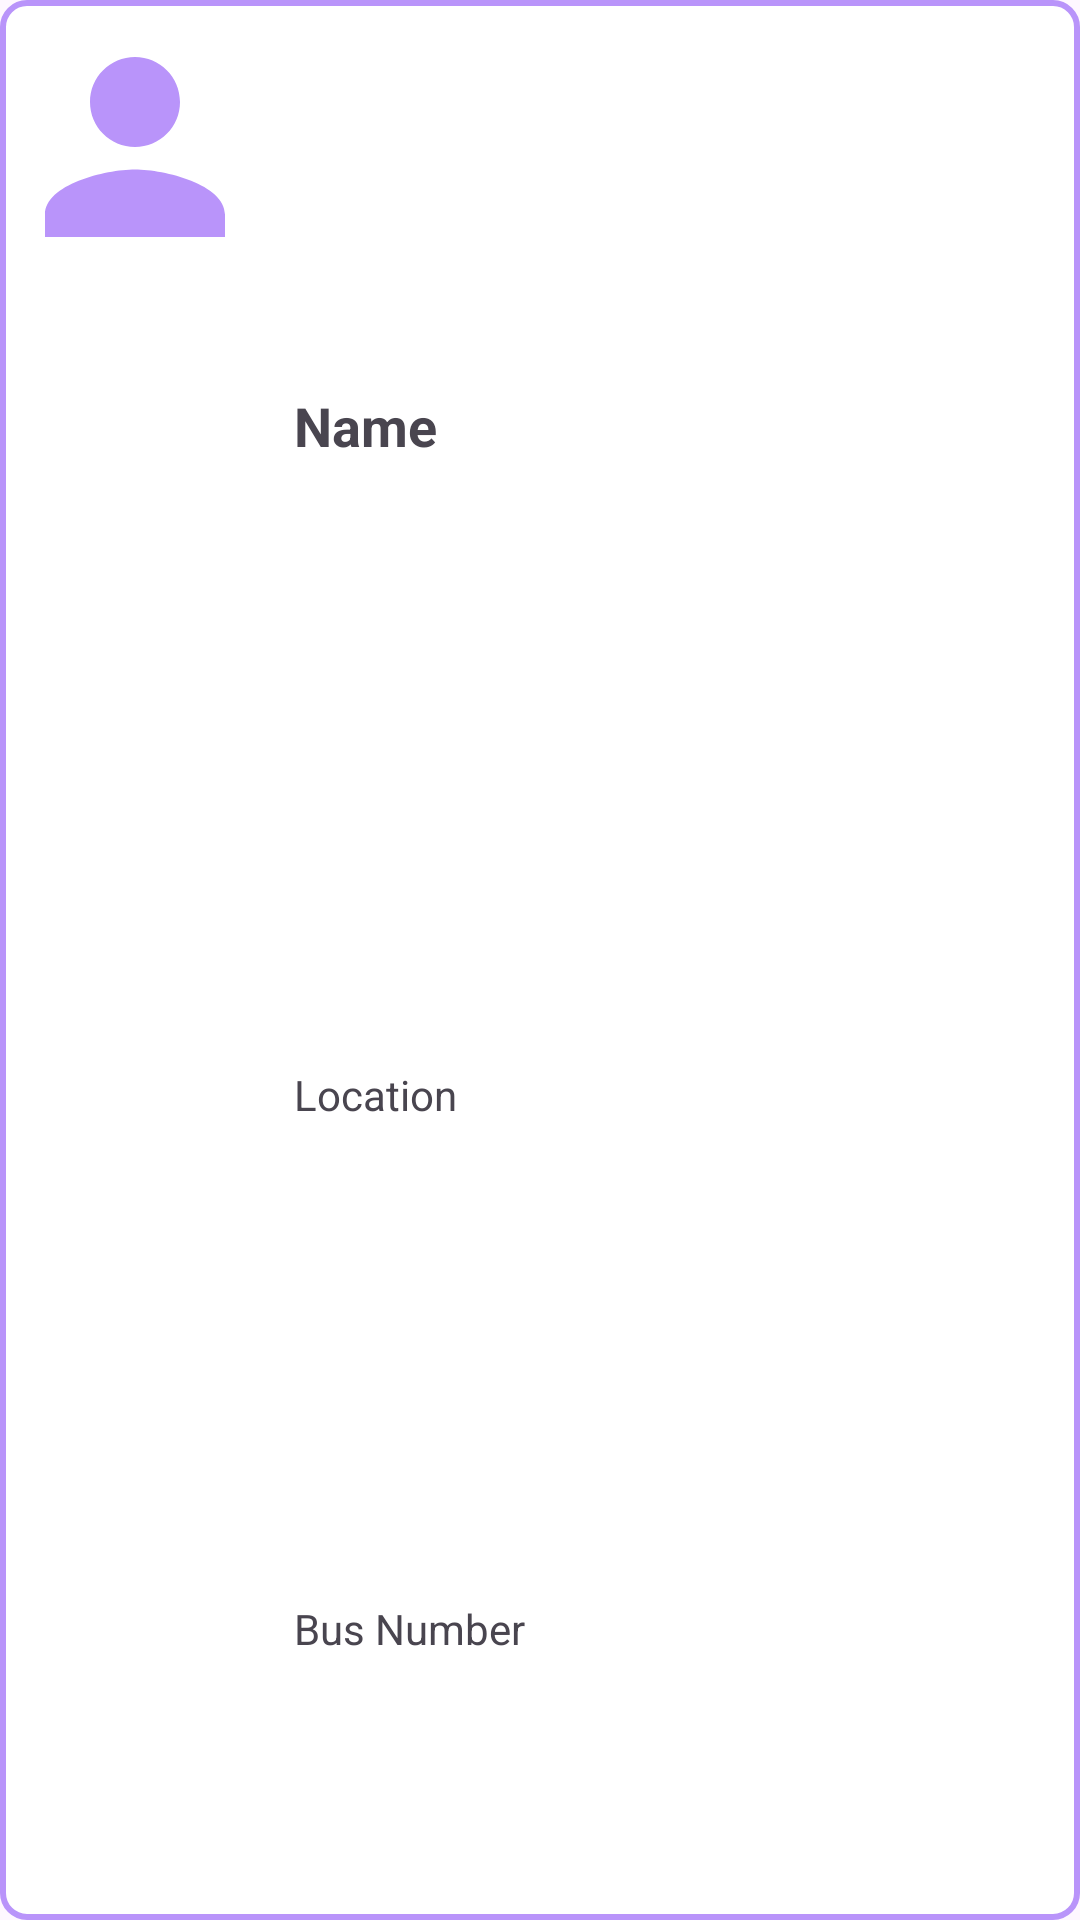

Named icons in this screenshot (1080×1920) and their bounding boxes, (x1, y1, x2, y2):
person: (45, 57, 225, 237)
